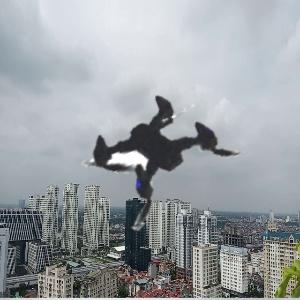drone: (17, 2, 294, 279)
